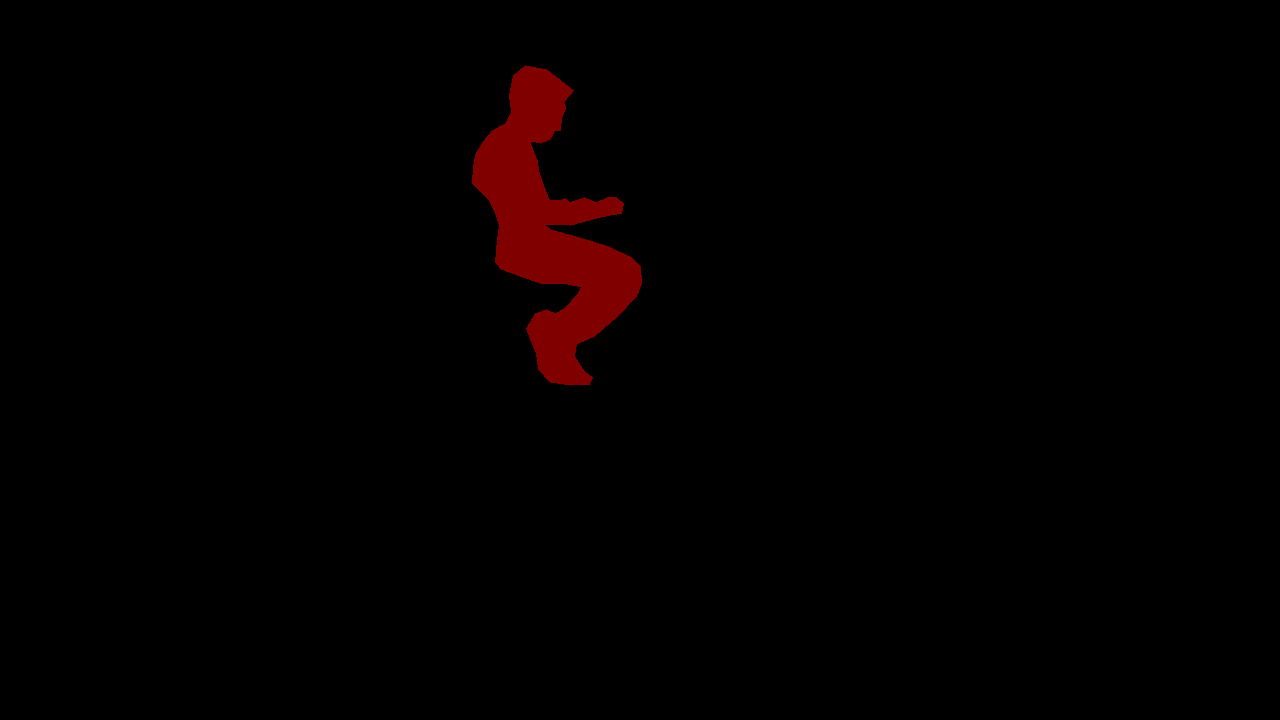person: (472, 65, 641, 385)
